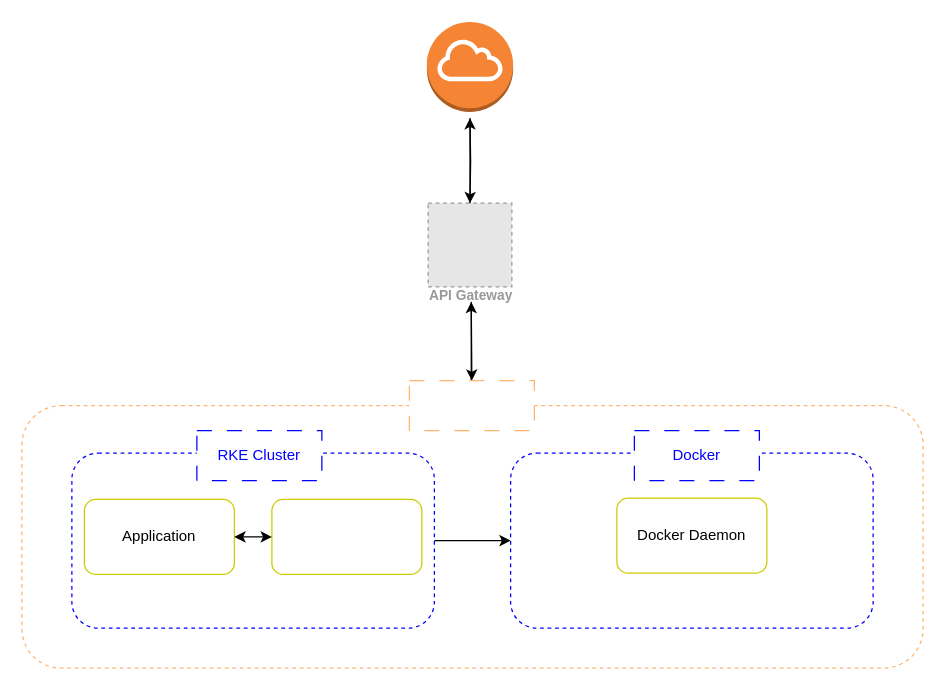
Some shapes in this 945 by 690 pixel diagram are drawn without their labels. Grey dashed boxes stand in for pictures. The shapes that lost their labels are listed below. From the top down, each one's centre as x and y in pixels, then its label:
the point at 471,405: OpenSUSE
the point at 346,536: Database
